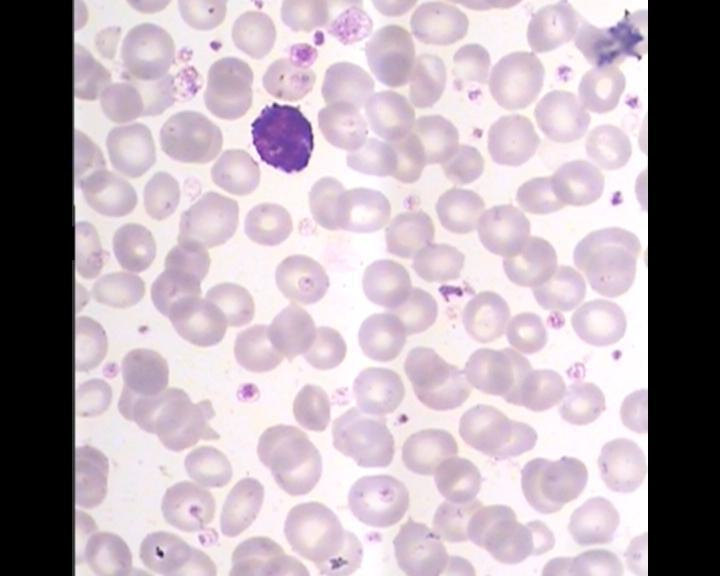baso: (244, 100, 321, 178)
